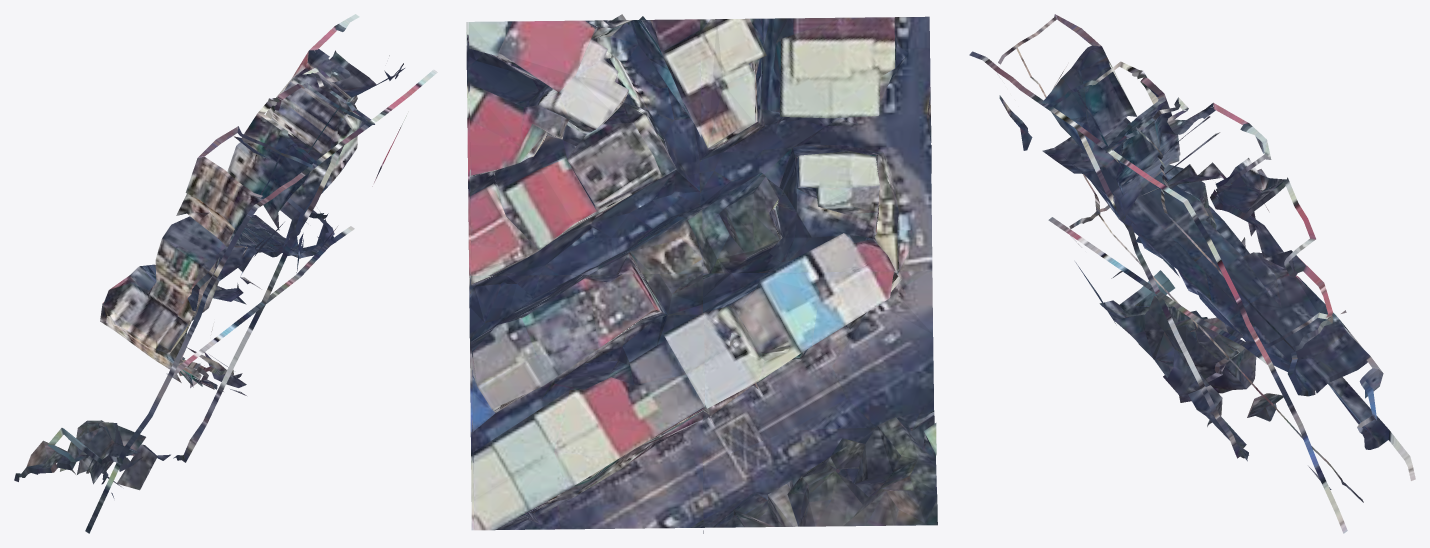
3 views of the same model, side by side, from view 1: azimuth 30°, elevation 25°; view 2: azimuth 150°, elevation 25°; view 3: azimuth 270°, elevation 25° (orthographic). The views are drawn at different scales.
Bounding box in the file's own units: 83.99 × 77.37 × 75.39.
1 material, 1 textured.
